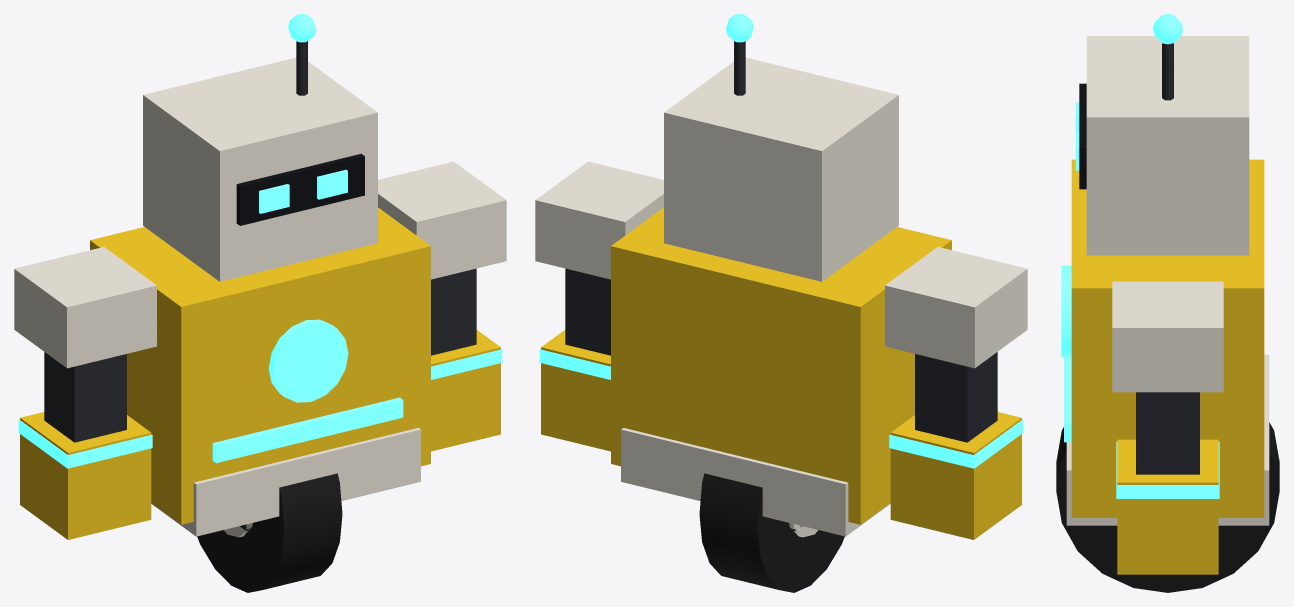
Rendered from robot_helper_yellow.glb.
The picture shows the model from 3 angles, left to right: view 1: azimuth 30°, elevation 25°; view 2: azimuth 150°, elevation 25°; view 3: azimuth 270°, elevation 25°; orthographic projection. The views are drawn at different scales.
Visible parts, largest first — view 1: torso, head, arm_R, arm_L, wheel; view 2: torso, head, arm_R, arm_L, wheel; view 3: head, torso, arm_L, wheel.
Boxes of the visible parts, <box> form: torso: <box>90,207,430,536</box>; head: <box>143,14,377,281</box>; arm_R: <box>14,247,156,539</box>; arm_L: <box>378,161,506,451</box>; wheel: <box>197,473,342,592</box>; torso: <box>611,207,951,536</box>; head: <box>664,14,898,281</box>; arm_R: <box>885,247,1027,539</box>; arm_L: <box>535,161,663,451</box>; wheel: <box>699,473,844,592</box>; head: <box>1075,14,1249,255</box>; torso: <box>1061,159,1269,525</box>; arm_L: <box>1112,281,1223,574</box>; wheel: <box>1056,422,1279,592</box>.
Bounding box in the file's own units: 0.8448 × 1.02 × 0.352.
